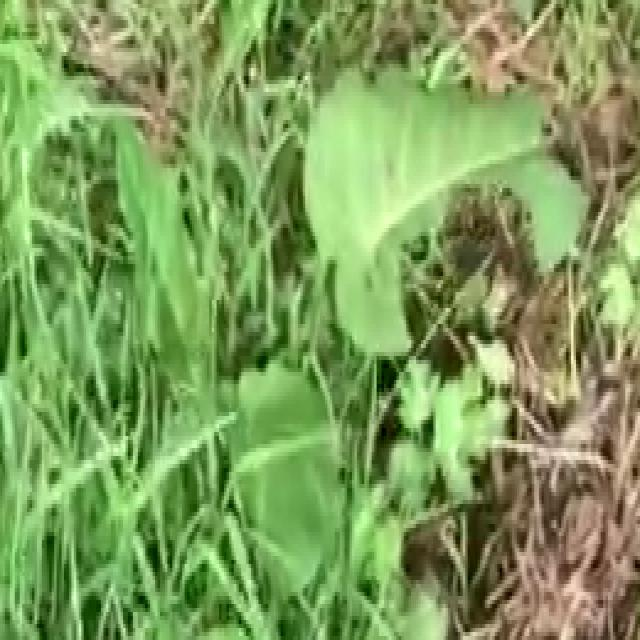organic waste: (101, 52, 556, 564)
